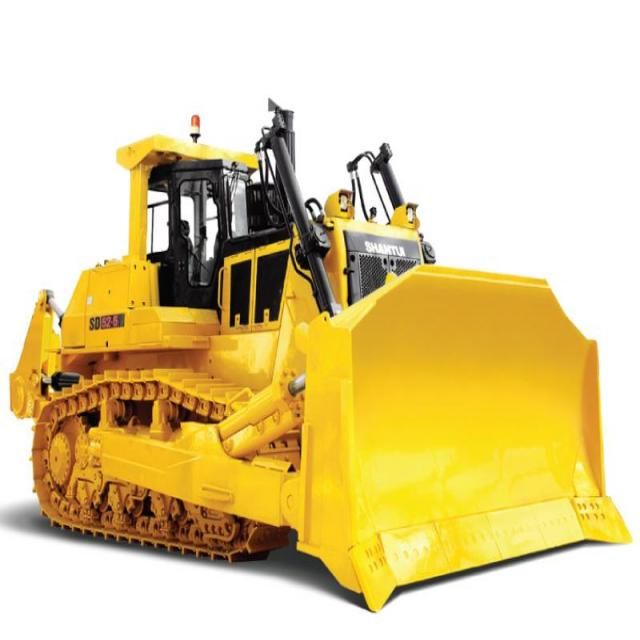Bulldozer: (1, 88, 634, 632)
